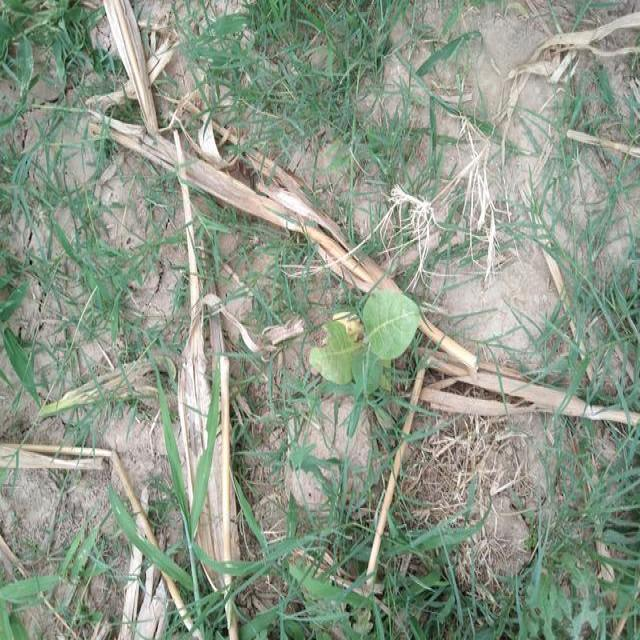crop: (315, 274, 418, 398)
